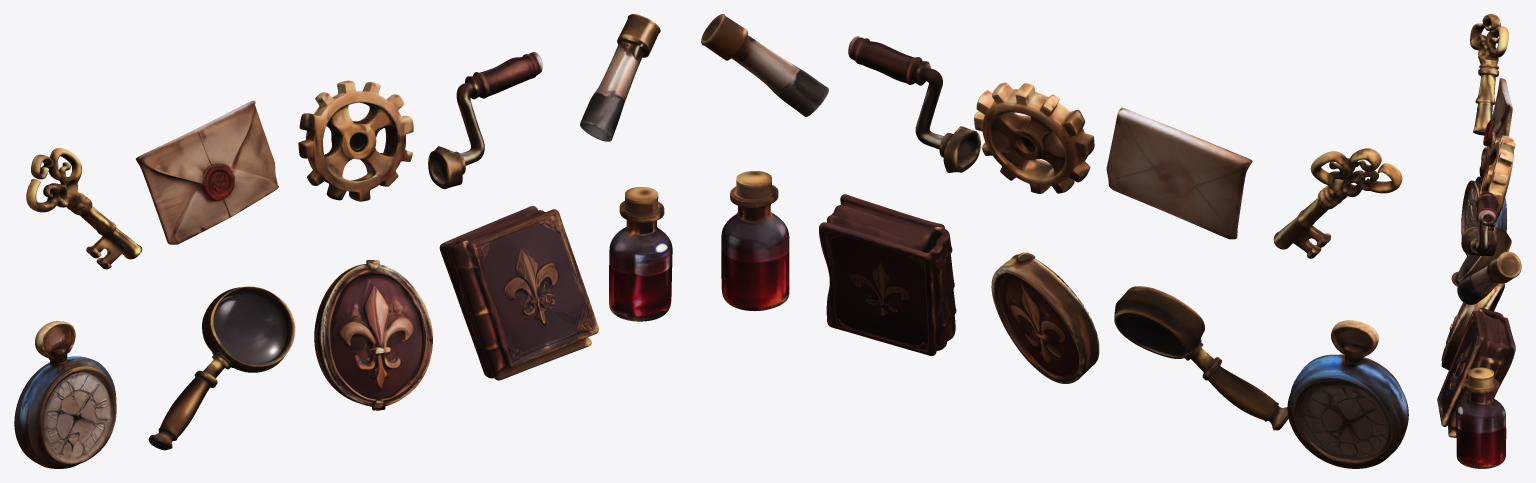
Rendered from inventory-props.glb.
The picture shows the model from 3 angles, left to right: view 1: azimuth 30°, elevation 25°; view 2: azimuth 150°, elevation 25°; view 3: azimuth 270°, elevation 25°; orthographic projection. The views are drawn at different scales.
Parts seen in each view (by area): view 1: model; view 2: model; view 3: model.
Boxes of the visible parts, x1,y1,x2,y2 form: model: [14, 14, 672, 468]; model: [701, 14, 1408, 468]; model: [1437, 14, 1521, 468].
Bounding box in the file's own units: 1.9 × 0.8723 × 0.2764.
Materials: 1 (1 with a texture image).
